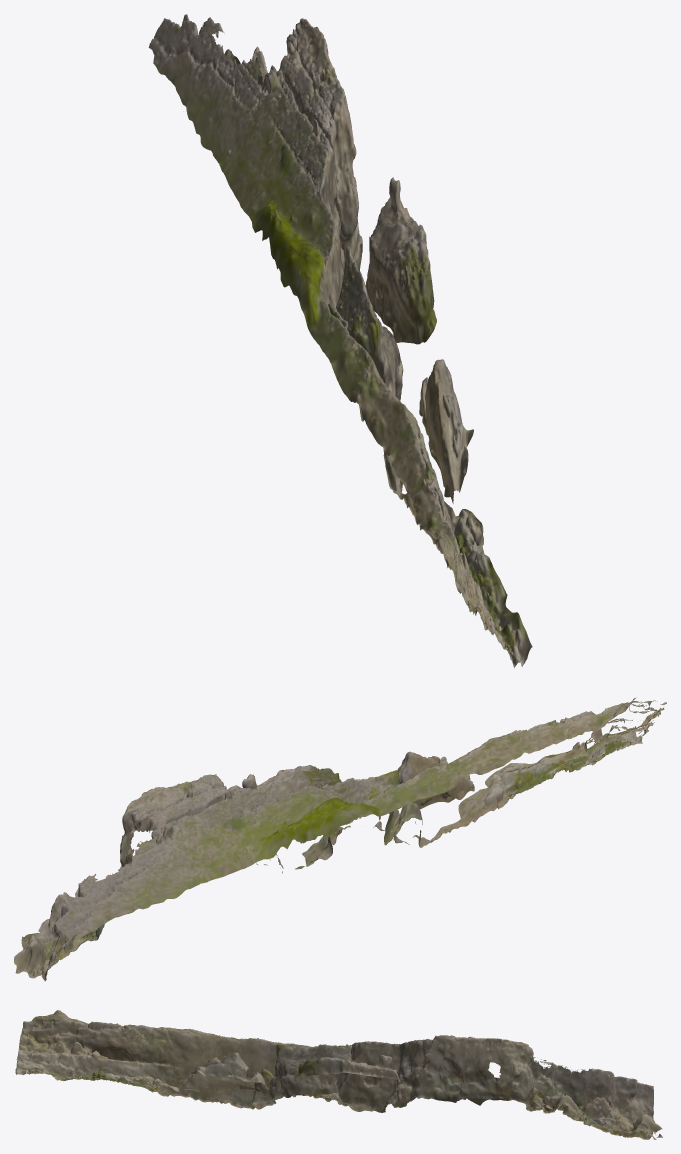
Rendered from mouth-mountain.glb.
3 renders of one model, top to bottom at view 1: azimuth 30°, elevation 25°; view 2: azimuth 150°, elevation 25°; view 3: azimuth 270°, elevation 25°, orthographic. The views are drawn at different scales.
Visible parts, largest first — view 1: geometry_0; view 2: geometry_0; view 3: geometry_0.
Part boxes in pixels (x1,y1,x2,y2): geometry_0: (148, 14, 532, 668); geometry_0: (14, 697, 666, 981); geometry_0: (15, 1010, 662, 1139).
Size of the model in its own units: 123 by 68.67 by 355.
